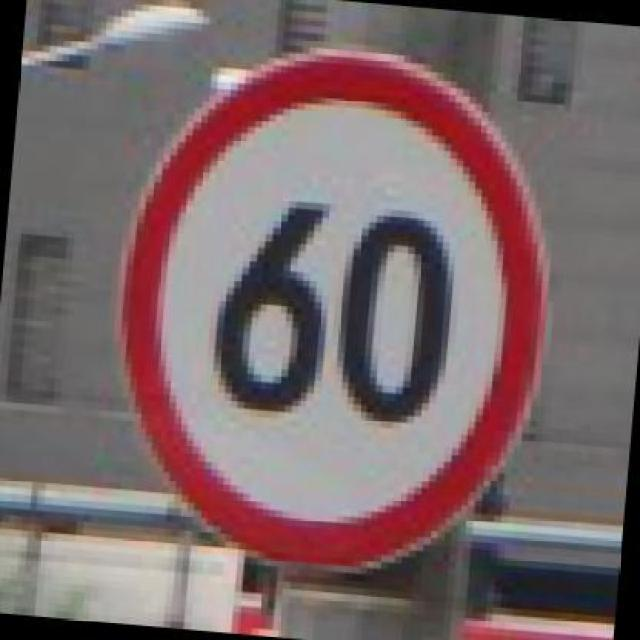Limite-60: (109, 44, 552, 571)
